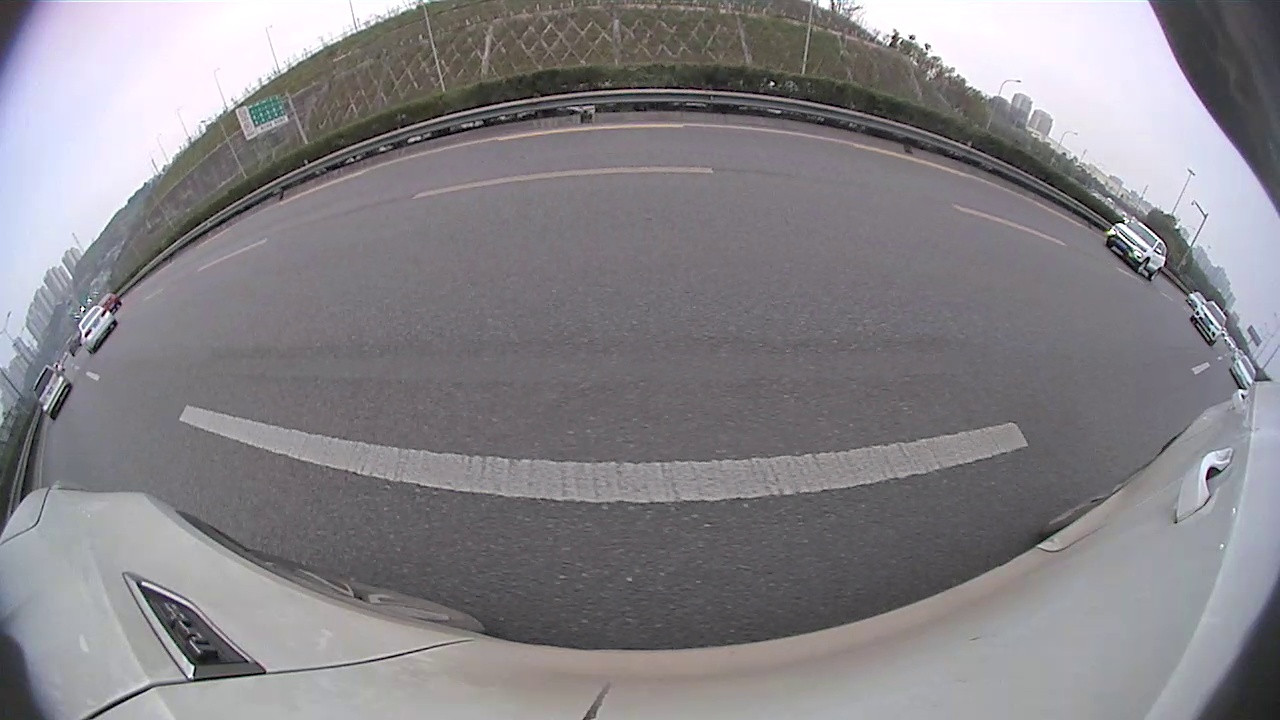car: (1, 176, 393, 519), (578, 111, 787, 255), (838, 148, 1050, 274), (1177, 316, 1279, 414), (444, 154, 556, 220), (555, 156, 583, 190)
front: (332, 228, 384, 300), (1200, 346, 1244, 403)
rear: (30, 409, 127, 520), (897, 211, 938, 263), (811, 201, 838, 245), (522, 185, 534, 212)
rider: (784, 116, 871, 245)
